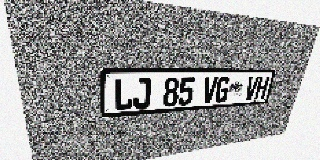5: (178, 77, 195, 106)
8: (162, 77, 180, 107)
G: (214, 77, 231, 103)
H: (254, 76, 270, 100)
J: (133, 78, 151, 109)
L: (114, 78, 133, 111)
V: (201, 77, 218, 104), (244, 76, 260, 100)
